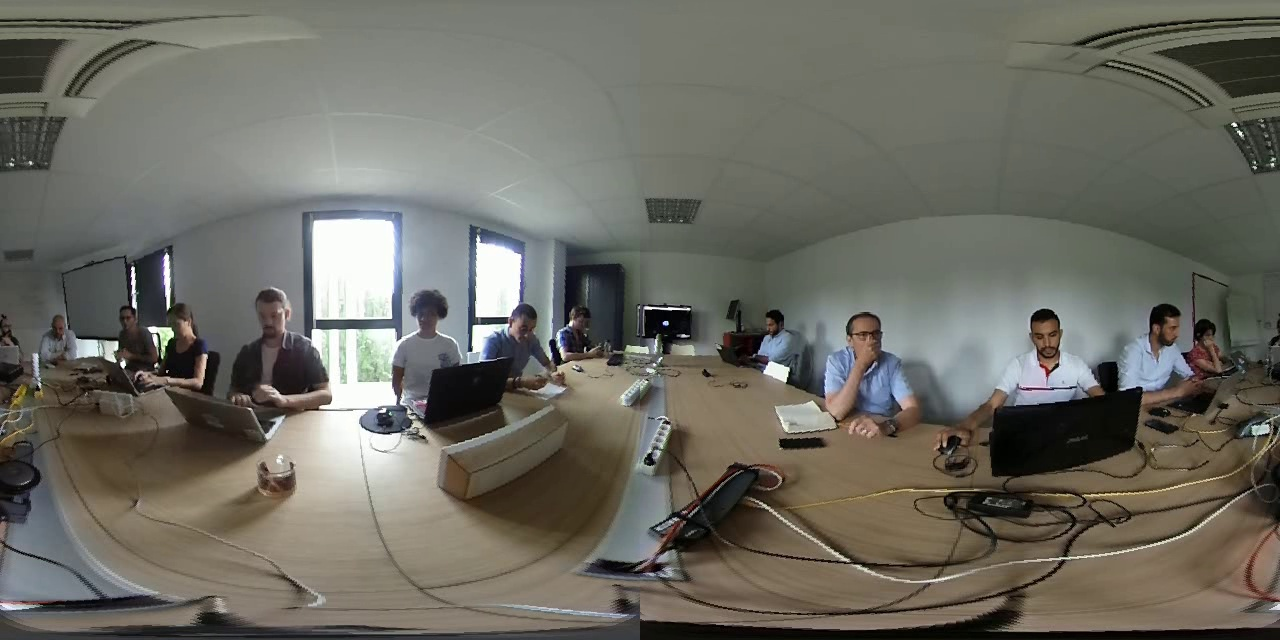person: (816, 304, 917, 426), (222, 279, 323, 395), (992, 303, 1095, 398), (388, 282, 468, 376), (1107, 295, 1186, 386), (476, 298, 544, 377), (155, 300, 213, 382), (547, 288, 610, 361), (743, 300, 804, 374), (107, 297, 155, 364), (34, 303, 86, 362), (1186, 303, 1229, 368), (1, 304, 26, 352)
